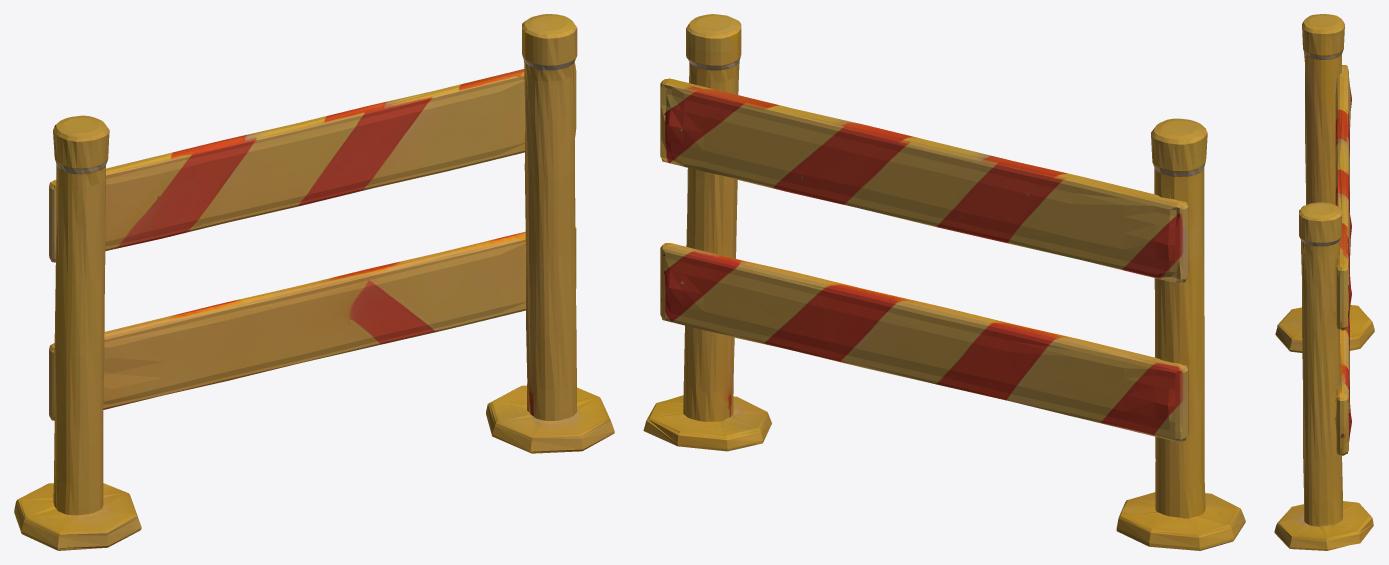
Rendered from barrier_A.glb.
The picture shows the model from 3 angles, left to right: view 1: azimuth 30°, elevation 25°; view 2: azimuth 150°, elevation 25°; view 3: azimuth 270°, elevation 25°; orthographic projection. The views are drawn at different scales.
Visible parts, largest first — view 1: barrier_B; view 2: barrier_B; view 3: barrier_B.
Part boxes in pixels (left/top/right/bottom): barrier_B: left=14, top=14, right=614, bottom=550; barrier_B: left=643, top=14, right=1245, bottom=550; barrier_B: left=1274, top=14, right=1374, bottom=550.
Size of the model in its own units: 1.89 by 1.3 by 0.3577.
1 material, 1 textured.
